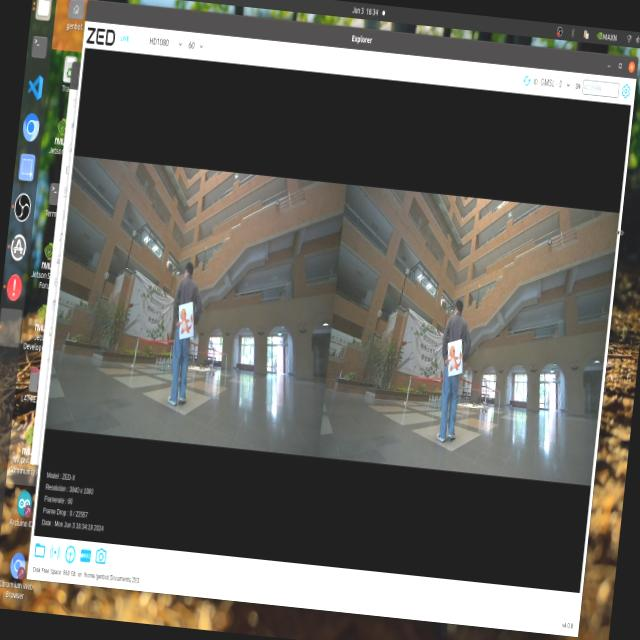red: (172, 298, 199, 340), (446, 338, 464, 377)
